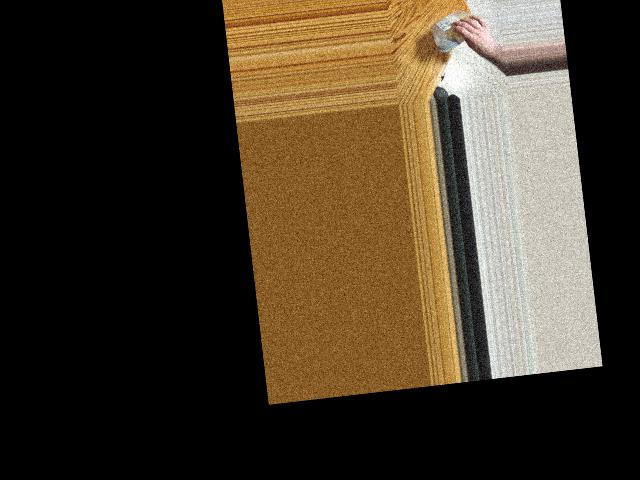cheese: (431, 14, 476, 48)
